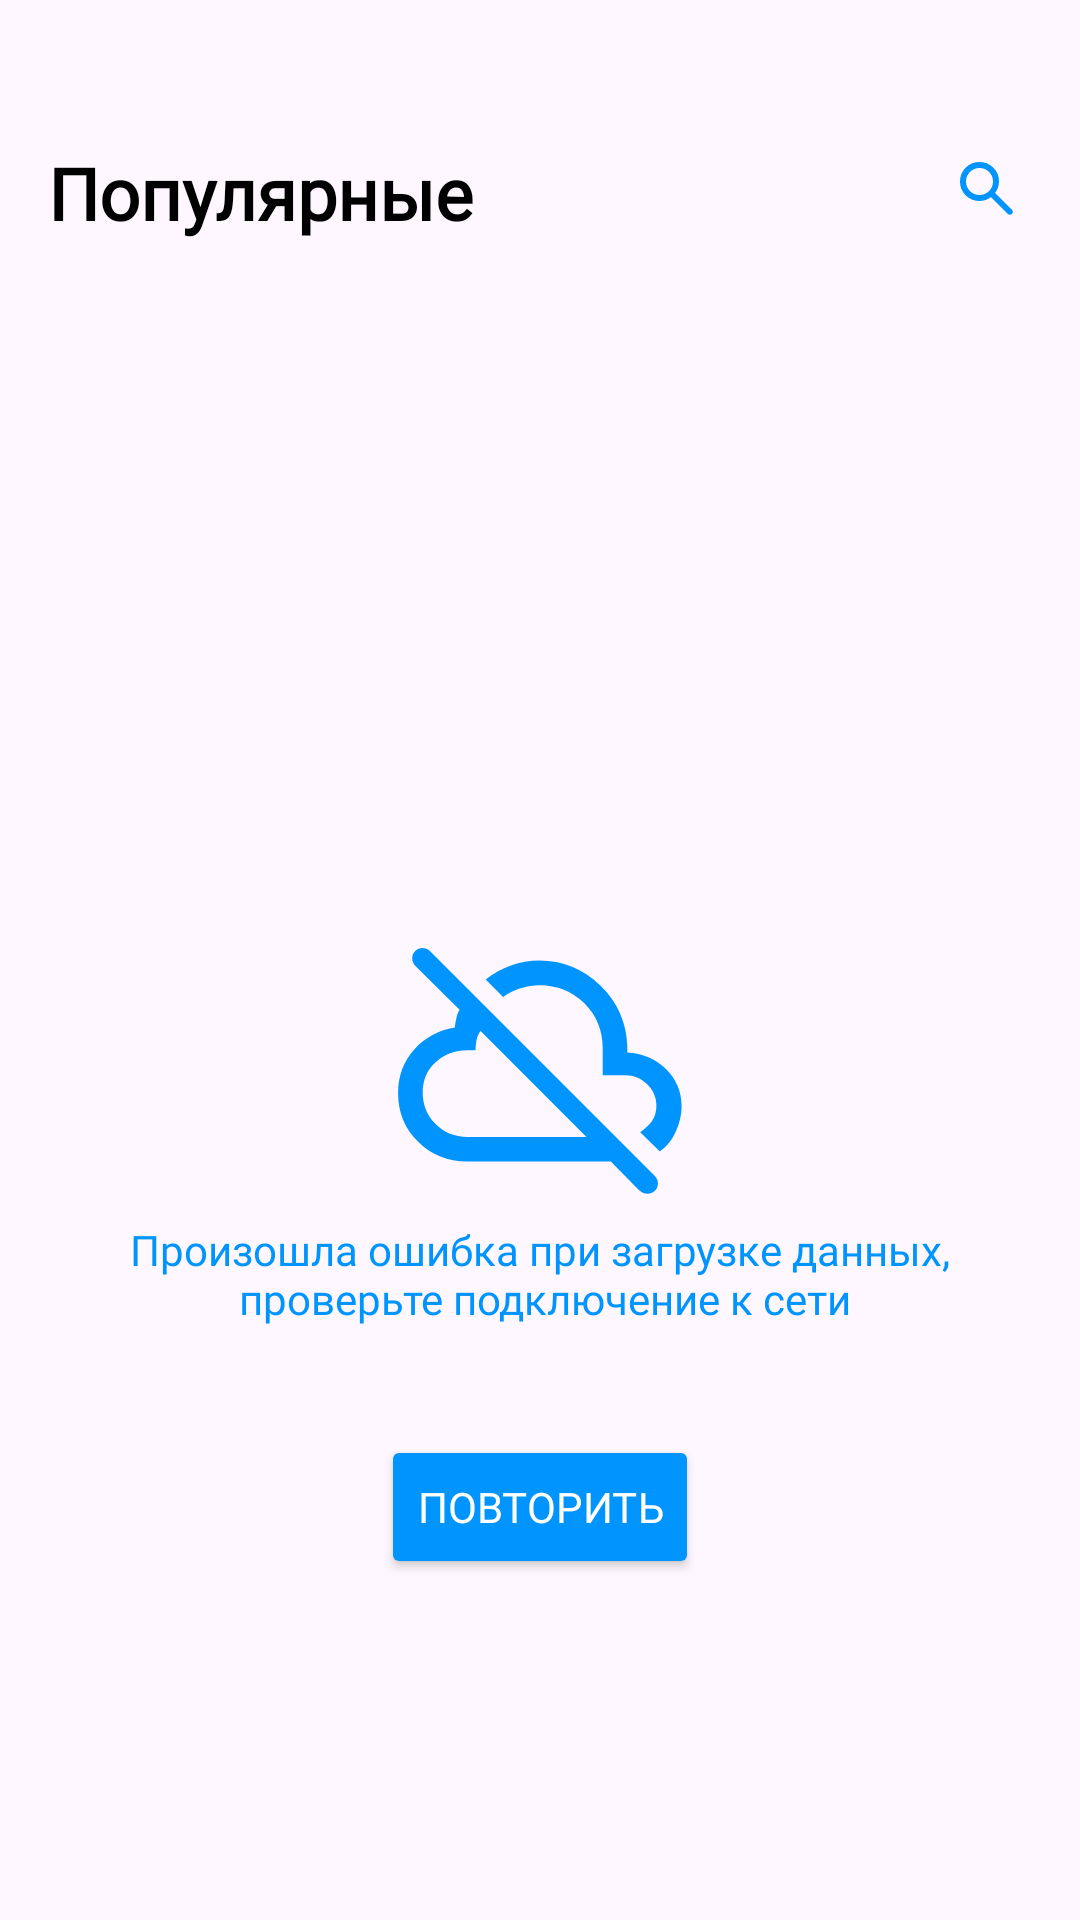

Icon bounding boxes for this 1080x1920 phone screenshot, format (x1, y1, x2, y2):
search icon: (960, 162, 1013, 215)
